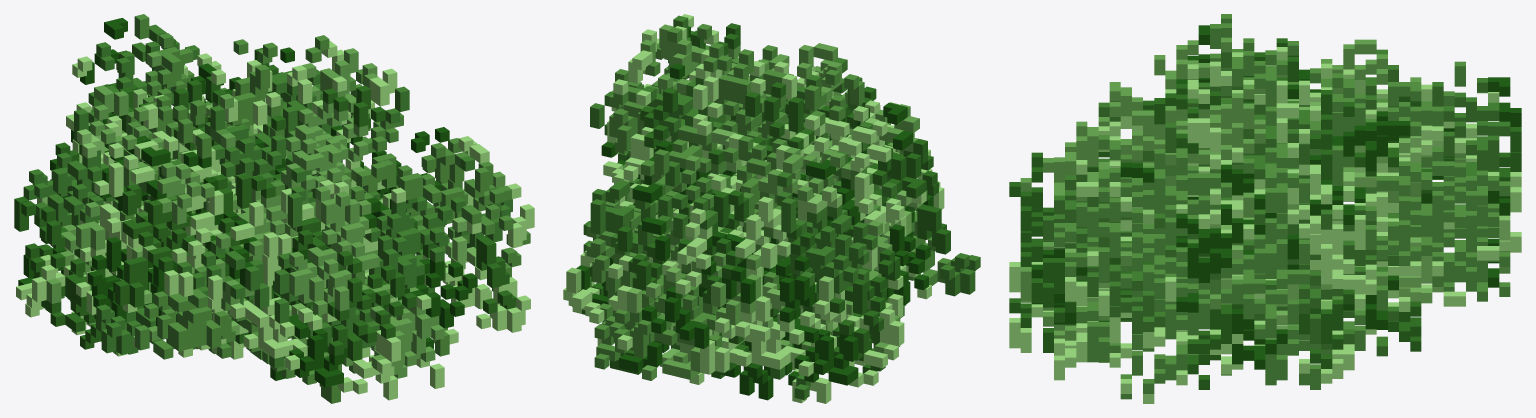
File: tree2-1-Leaves.obj
The picture shows the model from 3 angles, left to right: view 1: azimuth 30°, elevation 25°; view 2: azimuth 150°, elevation 25°; view 3: azimuth 270°, elevation 25°; orthographic projection. The views are drawn at different scales.
Parts seen in each view (by area): view 1: Leaves; view 2: Leaves; view 3: Leaves.
Boxes of the visible parts, x1=… form: Leaves: x1=14, y1=14, x2=534, y2=403; Leaves: x1=563, y1=14, x2=980, y2=403; Leaves: x1=1009, y1=14, x2=1521, y2=403.
Bounding box in the file's own units: 4.2 × 2.9 × 4.6.
1 material, 1 textured.
